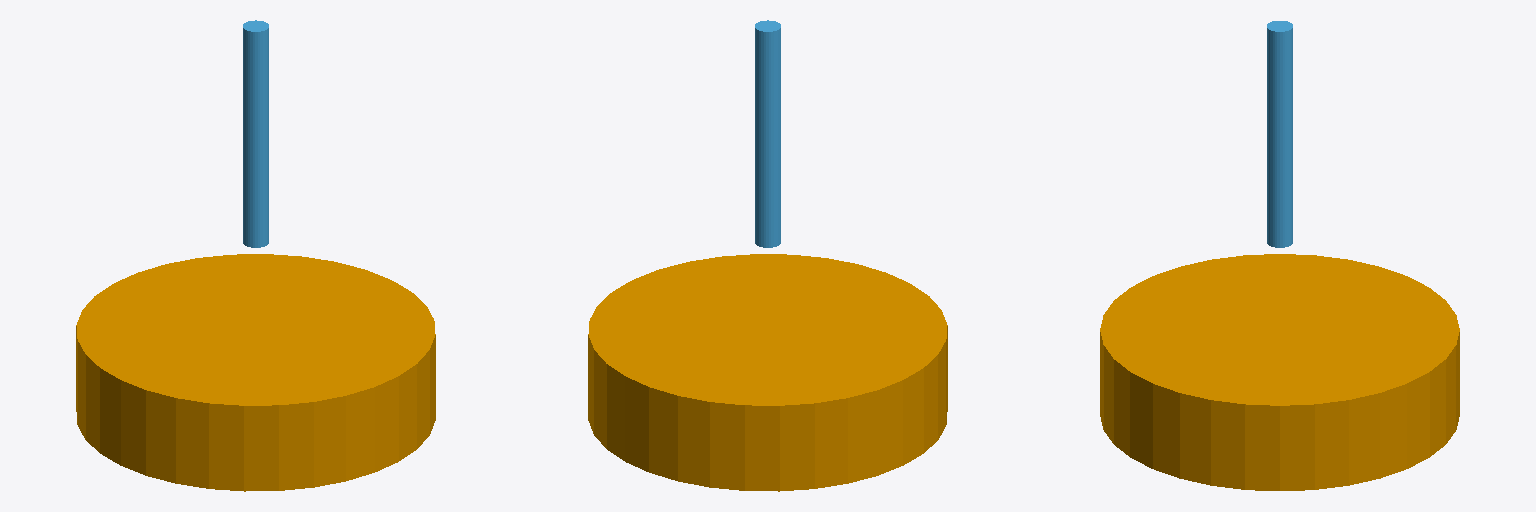
URDF robot description (mishanya):
<?xml version="1.0" ?>
<!-- =================================================================================== -->
<!-- |    This document was autogenerated by xacro from mishanya.xacro                 | -->
<!-- |    EDITING THIS FILE BY HAND IS NOT RECOMMENDED                                 | -->
<!-- =================================================================================== -->
<robot name="mishanya">
  <!-- kernel property -->
  <!-- kernel property -->
  <!-- inertial macros -->
  <!-- inertial macros -->
  <!-- base property -->
  <!-- base property -->
  <!-- inertial macros -->
  <!-- inertial macros -->
  <link name="base_link">
    <collision name="collision_chassis">
      <origin rpy="0 0 0" xyz="0 0 0.1"/>
      <geometry>
        <cylinder length="0.21" radius="0.4"/>
      </geometry>
    </collision>
    <visual>
      <origin rpy="0 0 0" xyz="0 0 0.1"/>
      <geometry>
        <cylinder length="0.21" radius="0.4"/>
      </geometry>
    </visual>
    <inertial>
      <origin rpy="0 0 0" xyz="0 0 0"/>
      <mass value="5"/>
      <inertia ixx="0.218375" ixy="0.0" ixz="0.0" iyy="0.218375" iyz="0.0" izz="0.4"/>
    </inertial>
  </link>
  <link name="kernel">
    <inertial>
      <origin rpy="0 0 0" xyz="0 0 0"/>
      <mass value="0.5"/>
      <inertia ixx="0.011816666666666668" ixy="0.0" ixz="0.0" iyy="0.011816666666666668" iyz="0.0" izz="0.000225"/>
    </inertial>
    <collision name="link_kernel_collision">
      <origin rpy="0 0 0" xyz="0 0 0.265"/>
      <geometry>
        <cylinder length="0.53" radius="0.03"/>
      </geometry>
    </collision>
    <visual name="kernel_visual">
      <origin rpy="0 0 0" xyz="0 0 0.265"/>
      <geometry>
        <cylinder length="0.53" radius="0.03"/>
      </geometry>
    </visual>
  </link>
  <joint name="joint_kernel" type="fixed">
    <origin rpy="0 0 0" xyz="0 0 0.42"/>
    <child link="kernel"/>
    <parent link="base_link"/>
    <axis rpy="0 0 0" xyz="0 0 0.42"/>
    <limit effort="0" velocity="0"/>
  </joint>
</robot>

--- Facts derived from the render (not from the file) ---
Views: 3 orthographic renders of the robot side by side, from view 1: azimuth 30°, elevation 25°; view 2: azimuth 150°, elevation 25°; view 3: azimuth 270°, elevation 25°.
Robot: mishanya — 2 links, 1 joints (1 fixed); root link base_link; default pose: every joint at zero.
Links seen in each view (by area): view 1: base_link, kernel; view 2: base_link, kernel; view 3: base_link, kernel.
Boxes of the visible links, x1=… form: base_link: x1=76, y1=254, x2=435, y2=491; kernel: x1=243, y1=20, x2=268, y2=247; base_link: x1=588, y1=254, x2=947, y2=491; kernel: x1=755, y1=20, x2=780, y2=247; base_link: x1=1100, y1=254, x2=1459, y2=490; kernel: x1=1267, y1=21, x2=1292, y2=247.
Size in the robot's own frame: 0.8 by 0.8 by 0.955 metres.
Geometry: primitives only (box / cylinder / sphere), no mesh files.
